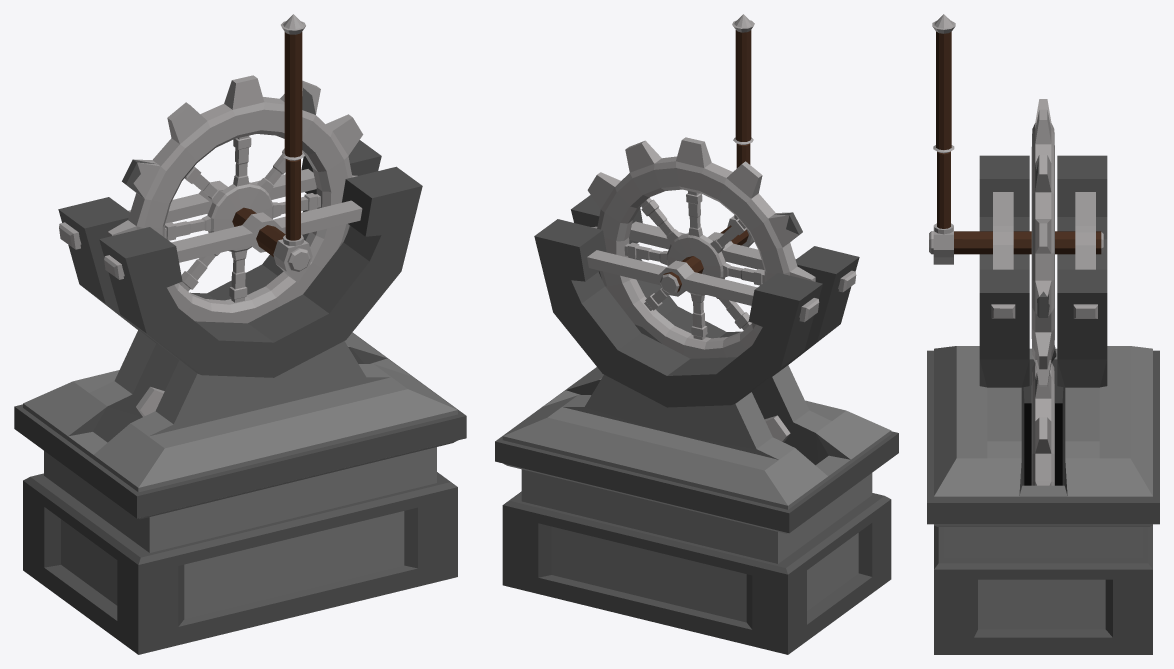
File: GearLever_1.fbx
3 renders of one model, left to right at view 1: azimuth 30°, elevation 25°; view 2: azimuth 150°, elevation 25°; view 3: azimuth 270°, elevation 25°, orthographic. The views are drawn at different scales.
Visible parts, largest first — view 1: GearLeverBase, Gear_Top, GearLeverHandle; view 2: GearLeverBase, Gear_Top, GearLeverHandle; view 3: GearLeverBase, Gear_Top, GearLeverHandle, Gear_Bottom.
Part boxes in pixels (x1,y1,x2,y2): GearLeverBase: [14, 140, 466, 654]; Gear_Top: [107, 75, 363, 323]; GearLeverHandle: [232, 14, 312, 282]; GearLeverBase: [495, 195, 898, 654]; Gear_Top: [587, 137, 815, 358]; GearLeverHandle: [660, 14, 754, 294]; GearLeverBase: [927, 155, 1159, 654]; Gear_Top: [1031, 99, 1056, 386]; GearLeverHandle: [929, 14, 1103, 264]; Gear_Bottom: [1031, 362, 1054, 485].
Bounding box in the file's own units: 108 × 198 × 69.9.
